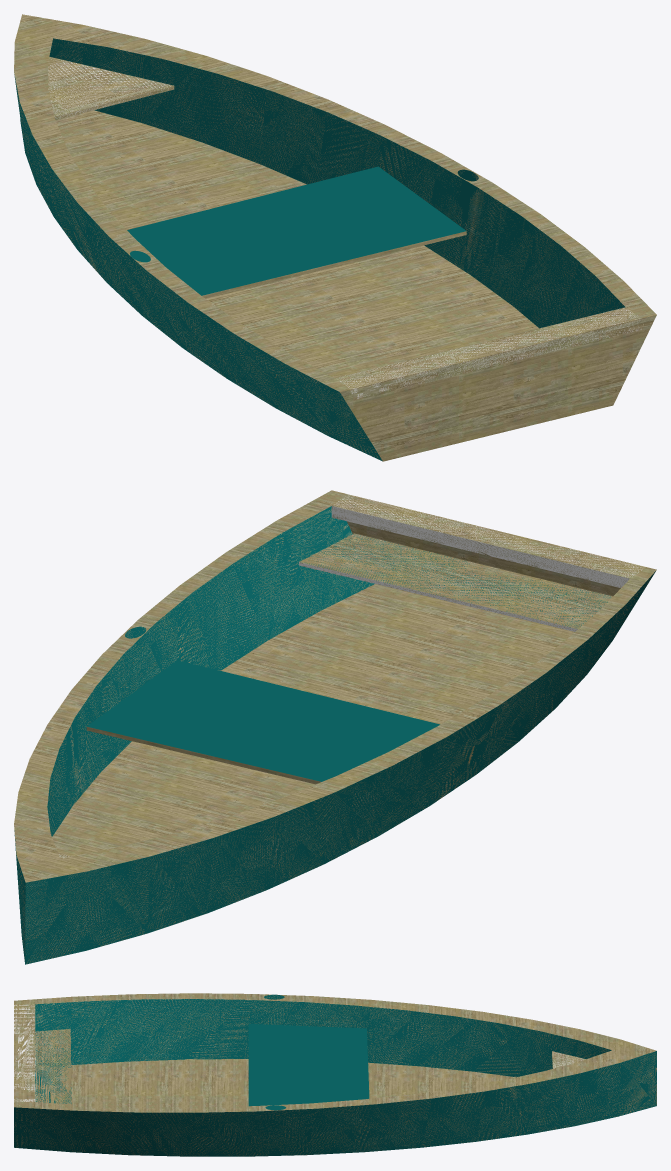
3 renders of one model, top to bottom at view 1: azimuth 30°, elevation 25°; view 2: azimuth 150°, elevation 25°; view 3: azimuth 270°, elevation 25°, orthographic. The views are drawn at different scales.
Parts seen in each view (by area): view 1: SketchUp (×6); view 2: SketchUp (×8); view 3: SketchUp (×6).
Part boxes in pixels (x1,y1,x2,y2): SketchUp (×6): (14,14,656,461); SketchUp (×8): (14,490,656,964); SketchUp (×6): (14,993,656,1156).
Bounding box in the file's own units: 195 × 444 × 42.
